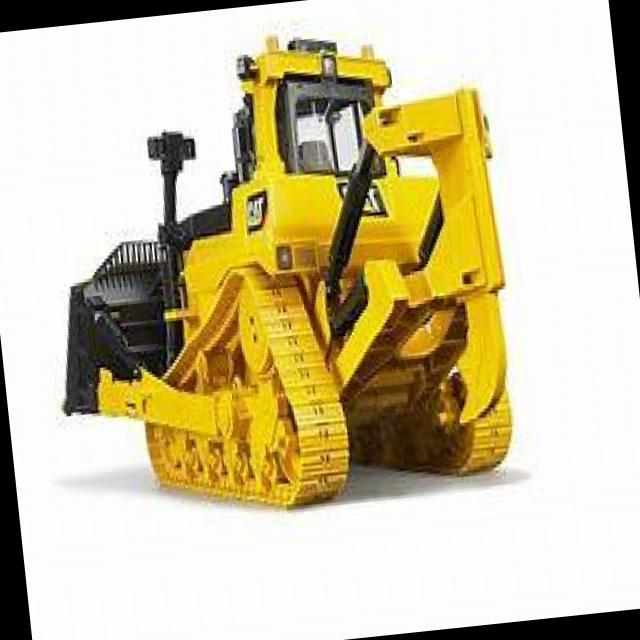Bulldozer: (12, 0, 537, 542)
